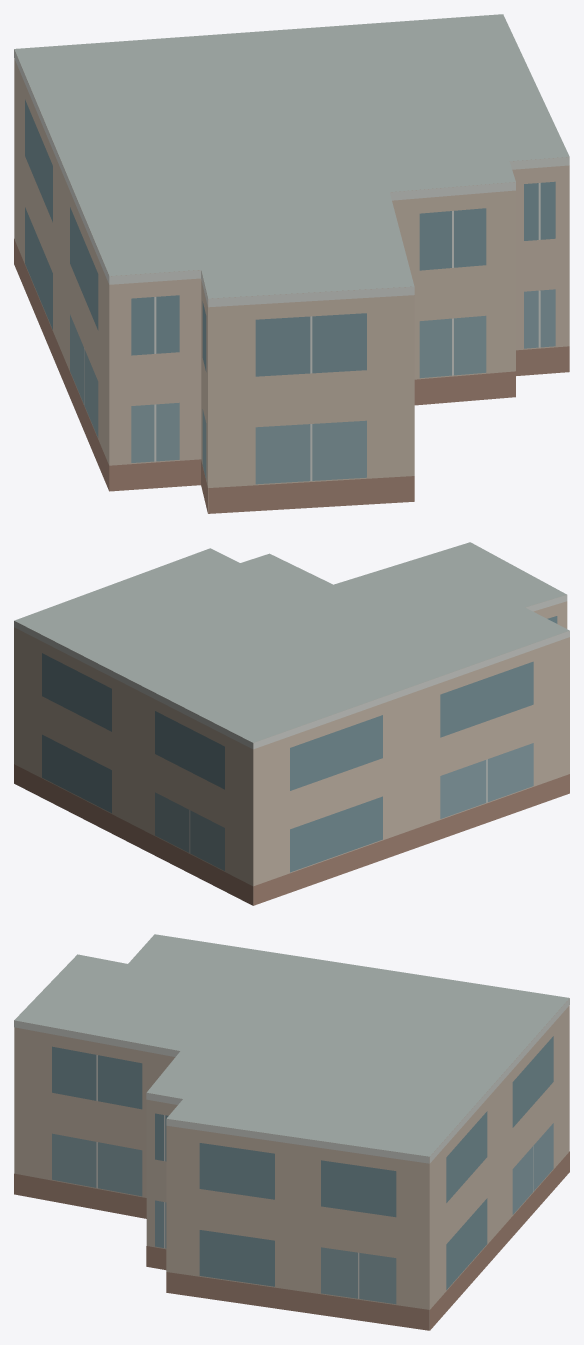
Rendered from survey-upis-32868961.glb.
3 renders of one model, top to bottom at view 1: azimuth 30°, elevation 25°; view 2: azimuth 150°, elevation 25°; view 3: azimuth 270°, elevation 25°, orthographic. The views are drawn at different scales.
Visible parts, largest first — view 1: survey-upis-32868961.tmp; view 2: survey-upis-32868961.tmp; view 3: survey-upis-32868961.tmp.
Part boxes in pixels (x1=…): survey-upis-32868961.tmp: x1=14, y1=14, x2=569, y2=513; survey-upis-32868961.tmp: x1=14, y1=542, x2=569, y2=905; survey-upis-32868961.tmp: x1=14, y1=934, x2=569, y2=1330.
Bounding box in the file's own units: 16.74 × 6.1 × 17.67.
